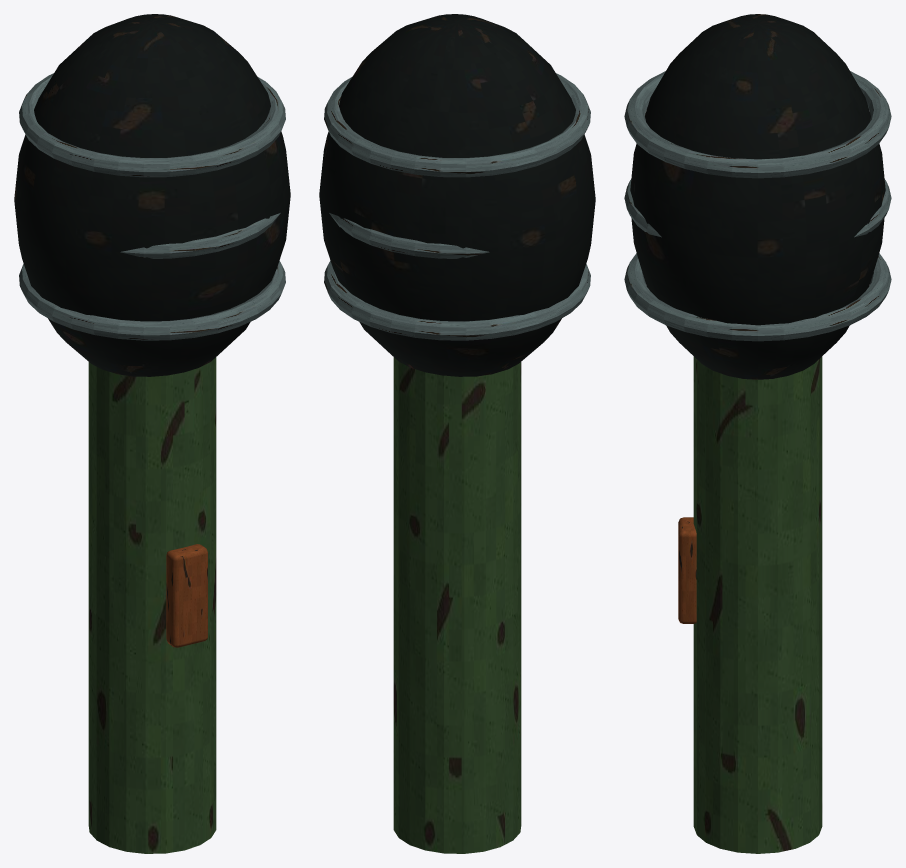
The model's file is eq-reportermic.glb.
3 views of the same model, side by side, from view 1: azimuth 30°, elevation 25°; view 2: azimuth 150°, elevation 25°; view 3: azimuth 270°, elevation 25° (orthographic).
Parts seen in each view (by area): view 1: Mesh head, Mic handle, Head grille.002, Head grille, Switch, Head grille.001; view 2: Mesh head, Mic handle, Head grille.002, Head grille, Head grille.001; view 3: Mesh head, Mic handle, Head grille.002, Head grille, Switch, Head grille.001.
Boxes of the visible parts, bbox=[...] form: Mesh head: bbox=[14, 14, 290, 376]; Mic handle: bbox=[88, 357, 216, 853]; Head grille.002: bbox=[19, 73, 285, 177]; Head grille: bbox=[19, 261, 285, 340]; Switch: bbox=[166, 544, 207, 647]; Head grille.001: bbox=[120, 213, 280, 258]; Mesh head: bbox=[319, 14, 595, 376]; Mic handle: bbox=[393, 357, 521, 853]; Head grille.002: bbox=[324, 73, 590, 177]; Head grille: bbox=[324, 261, 590, 340]; Head grille.001: bbox=[329, 213, 489, 258]; Mesh head: bbox=[630, 14, 885, 379]; Mic handle: bbox=[693, 356, 822, 853]; Head grille.002: bbox=[624, 71, 891, 178]; Head grille: bbox=[624, 253, 891, 341]; Switch: bbox=[678, 517, 696, 623]; Head grille.001: bbox=[624, 179, 891, 237].
Bounding box in the file's own units: 0.11 × 0.345 × 0.104.
4 materials, 4 textured.
